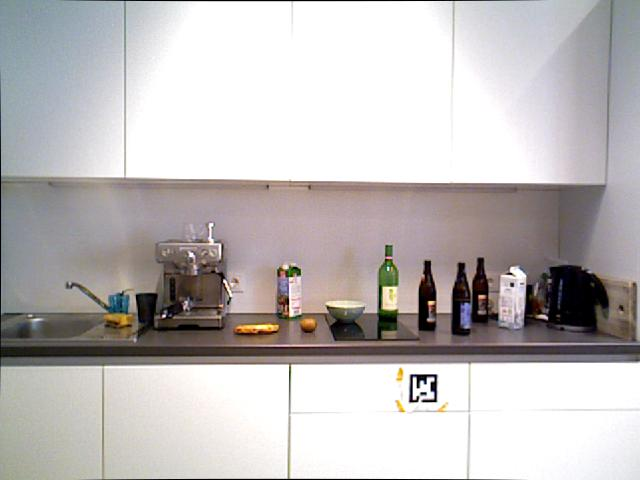bench: (497, 263, 529, 331), (274, 261, 305, 322), (377, 244, 398, 321), (451, 261, 471, 335), (417, 259, 436, 331), (471, 256, 488, 323)
bird: (324, 299, 366, 323)
couch: (0, 311, 107, 341)
handbag: (135, 292, 157, 325), (107, 292, 131, 319), (178, 222, 206, 243)
motorcycle: (231, 322, 283, 338)
